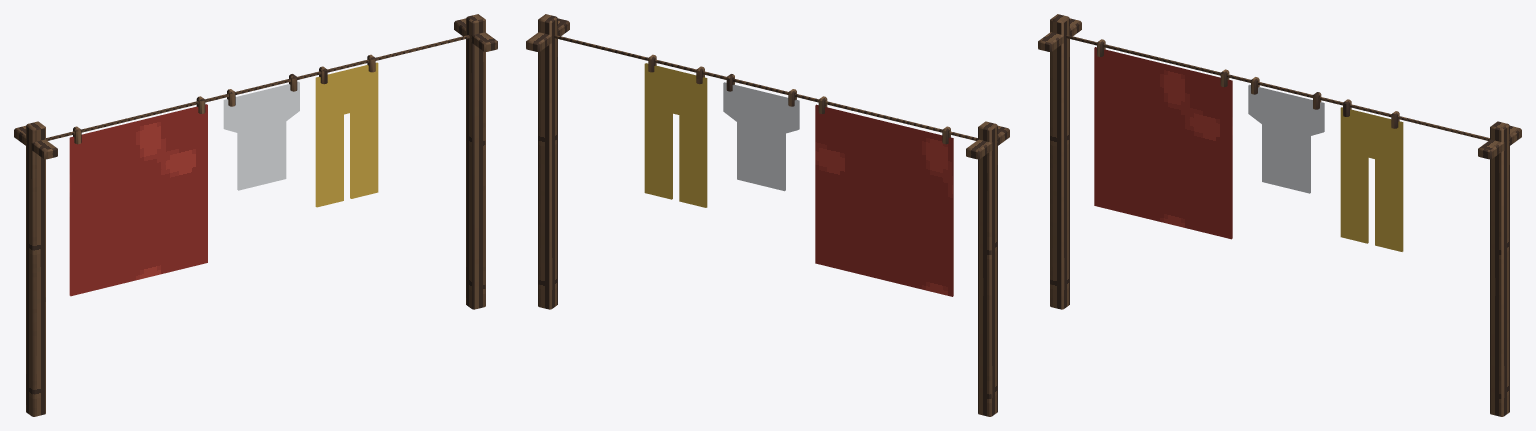
Rendered from cn_clothes_line_0.glb.
3 renders of one model, left to right at view 1: azimuth 30°, elevation 25°; view 2: azimuth 150°, elevation 25°; view 3: azimuth 330°, elevation 25°, orthographic.
Visible parts, largest first — view 1: cn_clothes_line_1; view 2: cn_clothes_line_1; view 3: cn_clothes_line_1.
Boxes of the visible parts, bbox=[...] form: cn_clothes_line_1: bbox=[14, 14, 497, 416]; cn_clothes_line_1: bbox=[526, 14, 1009, 416]; cn_clothes_line_1: bbox=[1038, 14, 1521, 416].
Bounding box in the file's own units: 3.3 × 2 × 0.4.
6 materials, 6 textured.
